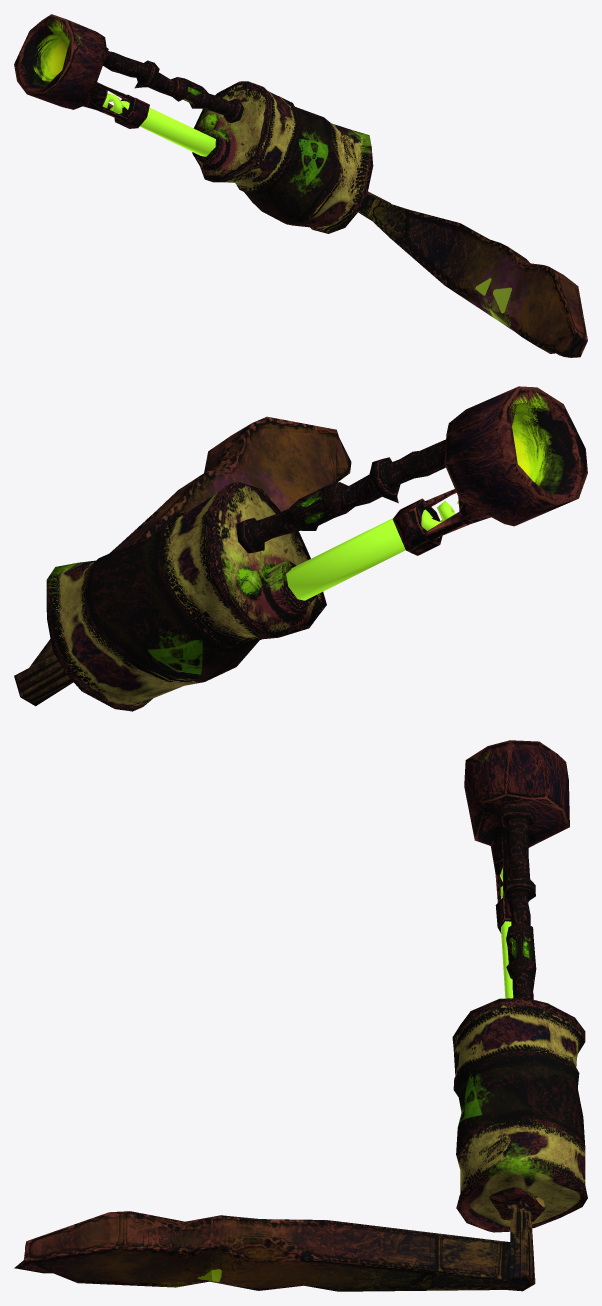
Rendered from Sludge.fbx.
The picture shows the model from 3 angles, top to bottom: view 1: azimuth 30°, elevation 25°; view 2: azimuth 150°, elevation 25°; view 3: azimuth 270°, elevation 25°; orthographic projection. The views are drawn at different scales.
Parts seen in each view (by area): view 1: Weapon, Body arm; view 2: Weapon, Body arm; view 3: Weapon, Body arm.
Boxes of the visible parts, box(x1,y1,x2,y2) form: Weapon: box(14, 14, 373, 233); Body arm: box(358, 191, 587, 357); Weapon: box(46, 386, 587, 711); Body arm: box(14, 416, 351, 706); Weapon: box(452, 740, 587, 1232); Body arm: box(14, 1187, 545, 1291).
Size of the model in its own units: 7.06 by 4.98 by 7.17.
